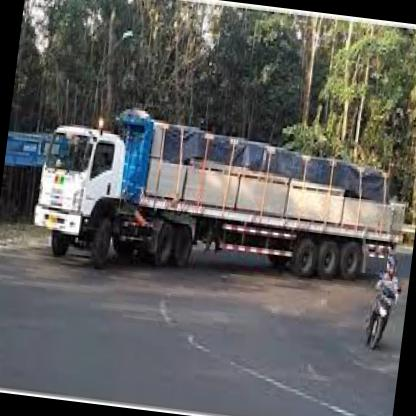truck: (28, 119, 133, 275)
